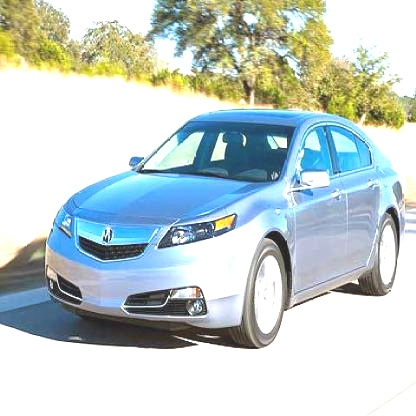Vehicle: (45, 109, 407, 351)
